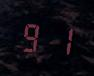nine: (19, 17, 45, 55)
one: (46, 20, 72, 58)
